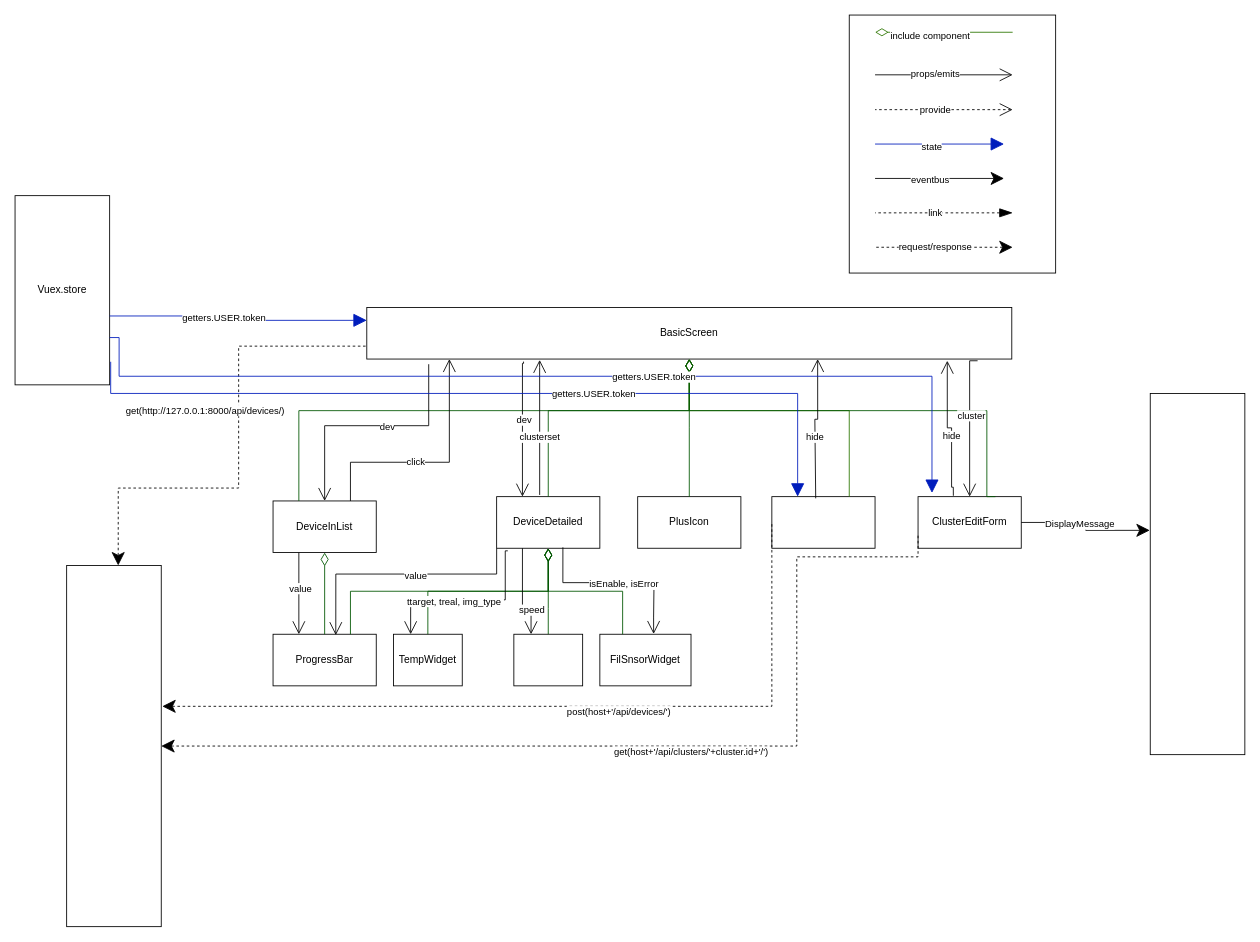
Image size: 1260x942. Some labels were removed from this diagram. Here are the shapes that lost their labels. From the top down, the centre of each, then its label:
At (823,522): "DeviceRegisterForm".
At (1197,574): "EventBus mitt".
At (548,659): "CoolerWidget".
At (113,746): "Server".
